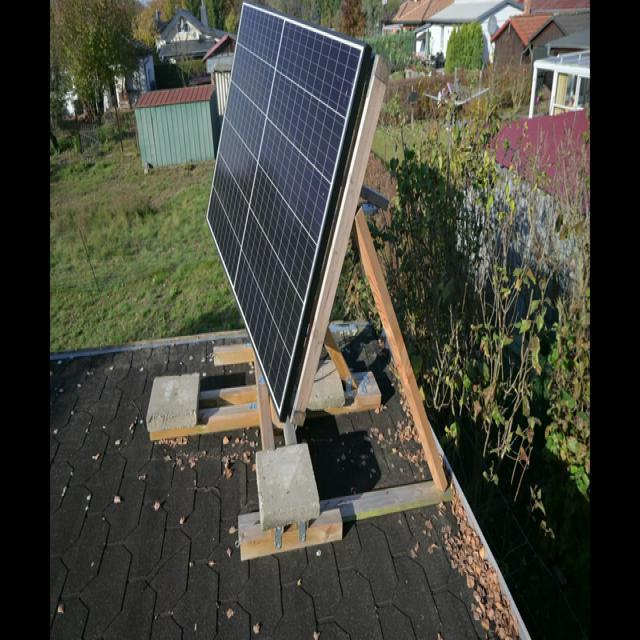Normal Solar Panel: (209, 3, 363, 412)
